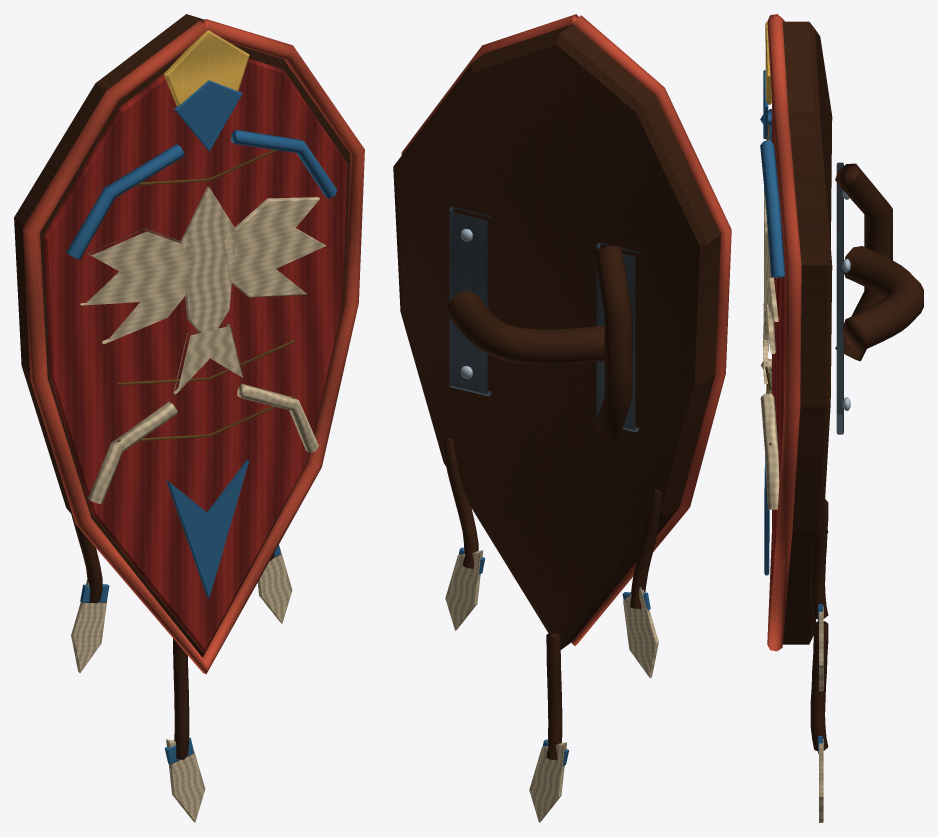
Rendered from sheikah_shield.glb.
The picture shows the model from 3 angles, left to right: view 1: azimuth 30°, elevation 25°; view 2: azimuth 150°, elevation 25°; view 3: azimuth 270°, elevation 25°; orthographic projection. The views are drawn at different scales.
Parts seen in each view (by area): view 1: Red lacquer kite shell, Warm red metal rolled border, Rito spread wing carving (×2), Narrow Rito kite wooden core, Ivory Rito bird body, Kite tail pale feather vane (×3), Blue kite shoulder stripe (×2), Blue lower kite chevron, Pale tip cap, Lower cream diagonal stripe (×2), Rito kite tail leather cord (×2), Blue kite top inlay (+1 smaller); view 2: Narrow Rito kite wooden core, Warm red metal rolled border, Leather strap steel anchor (×2), Arched rear hand strap, Rear forearm brace, Kite tail pale feather vane (×3), Rito kite tail leather cord (×3); view 3: Narrow Rito kite wooden core, Warm red metal rolled border, Arched rear hand strap, Rear forearm brace, Rito kite tail leather cord (×2), Red lacquer kite shell, Leather strap steel anchor (×2), Blue kite shoulder stripe, Lower cream diagonal stripe, Rito spread wing carving, Kite tail pale feather vane (×2), Blue lower kite chevron (+2 smaller).
Part boxes in pixels (x1,y1,x2,y2): Red lacquer kite shell: [43, 58, 347, 652]; Warm red metal rolled border: [22, 19, 364, 674]; Rito spread wing carving (×2): [80, 197, 325, 344]; Narrow Rito kite wooden core: [14, 14, 350, 657]; Ivory Rito bird body: [180, 186, 236, 332]; Kite tail pale feather vane (×3): [71, 546, 292, 822]; Blue kite shoulder stripe (×2): [66, 129, 336, 259]; Blue lower kite chevron: [166, 460, 248, 598]; Pale tip cap: [164, 30, 249, 106]; Lower cream diagonal stripe (×2): [88, 383, 318, 503]; Rito kite tail leather cord (×2): [71, 514, 189, 759]; Blue kite top inlay: [174, 80, 242, 151]; Narrow Rito kite wooden core: [393, 24, 720, 649]; Warm red metal rolled border: [401, 14, 731, 646]; Leather strap steel anchor (×2): [449, 206, 638, 432]; Arched rear hand strap: [448, 290, 604, 364]; Rear forearm brace: [594, 246, 632, 440]; Kite tail pale feather vane (×3): [445, 550, 658, 822]; Rito kite tail leather cord (×3): [441, 438, 662, 760]; Narrow Rito kite wooden core: [782, 21, 832, 644]; Warm red metal rolled border: [767, 14, 801, 651]; Arched rear hand strap: [842, 246, 923, 350]; Rear forearm brace: [835, 163, 892, 361]; Rito kite tail leather cord (×2): [810, 499, 828, 751]; Red lacquer kite shell: [772, 105, 785, 584]; Leather strap steel anchor (×2): [836, 162, 843, 434]; Blue kite shoulder stripe: [760, 141, 784, 277]; Lower cream diagonal stripe: [760, 393, 779, 509]; Rito spread wing carving: [764, 231, 778, 353]; Kite tail pale feather vane (×2): [819, 606, 823, 822]; Blue lower kite chevron: [764, 456, 769, 575].
Size of the model in its own units: 32.5 by 75.19 by 13.93.
9 materials, 9 textured.
